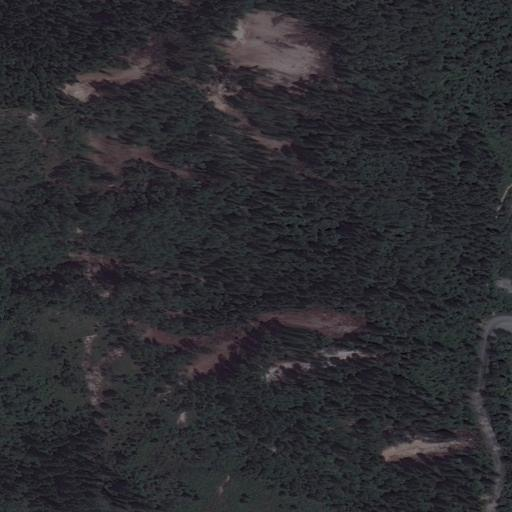landslide: (217, 10, 326, 87), (376, 441, 475, 462)
